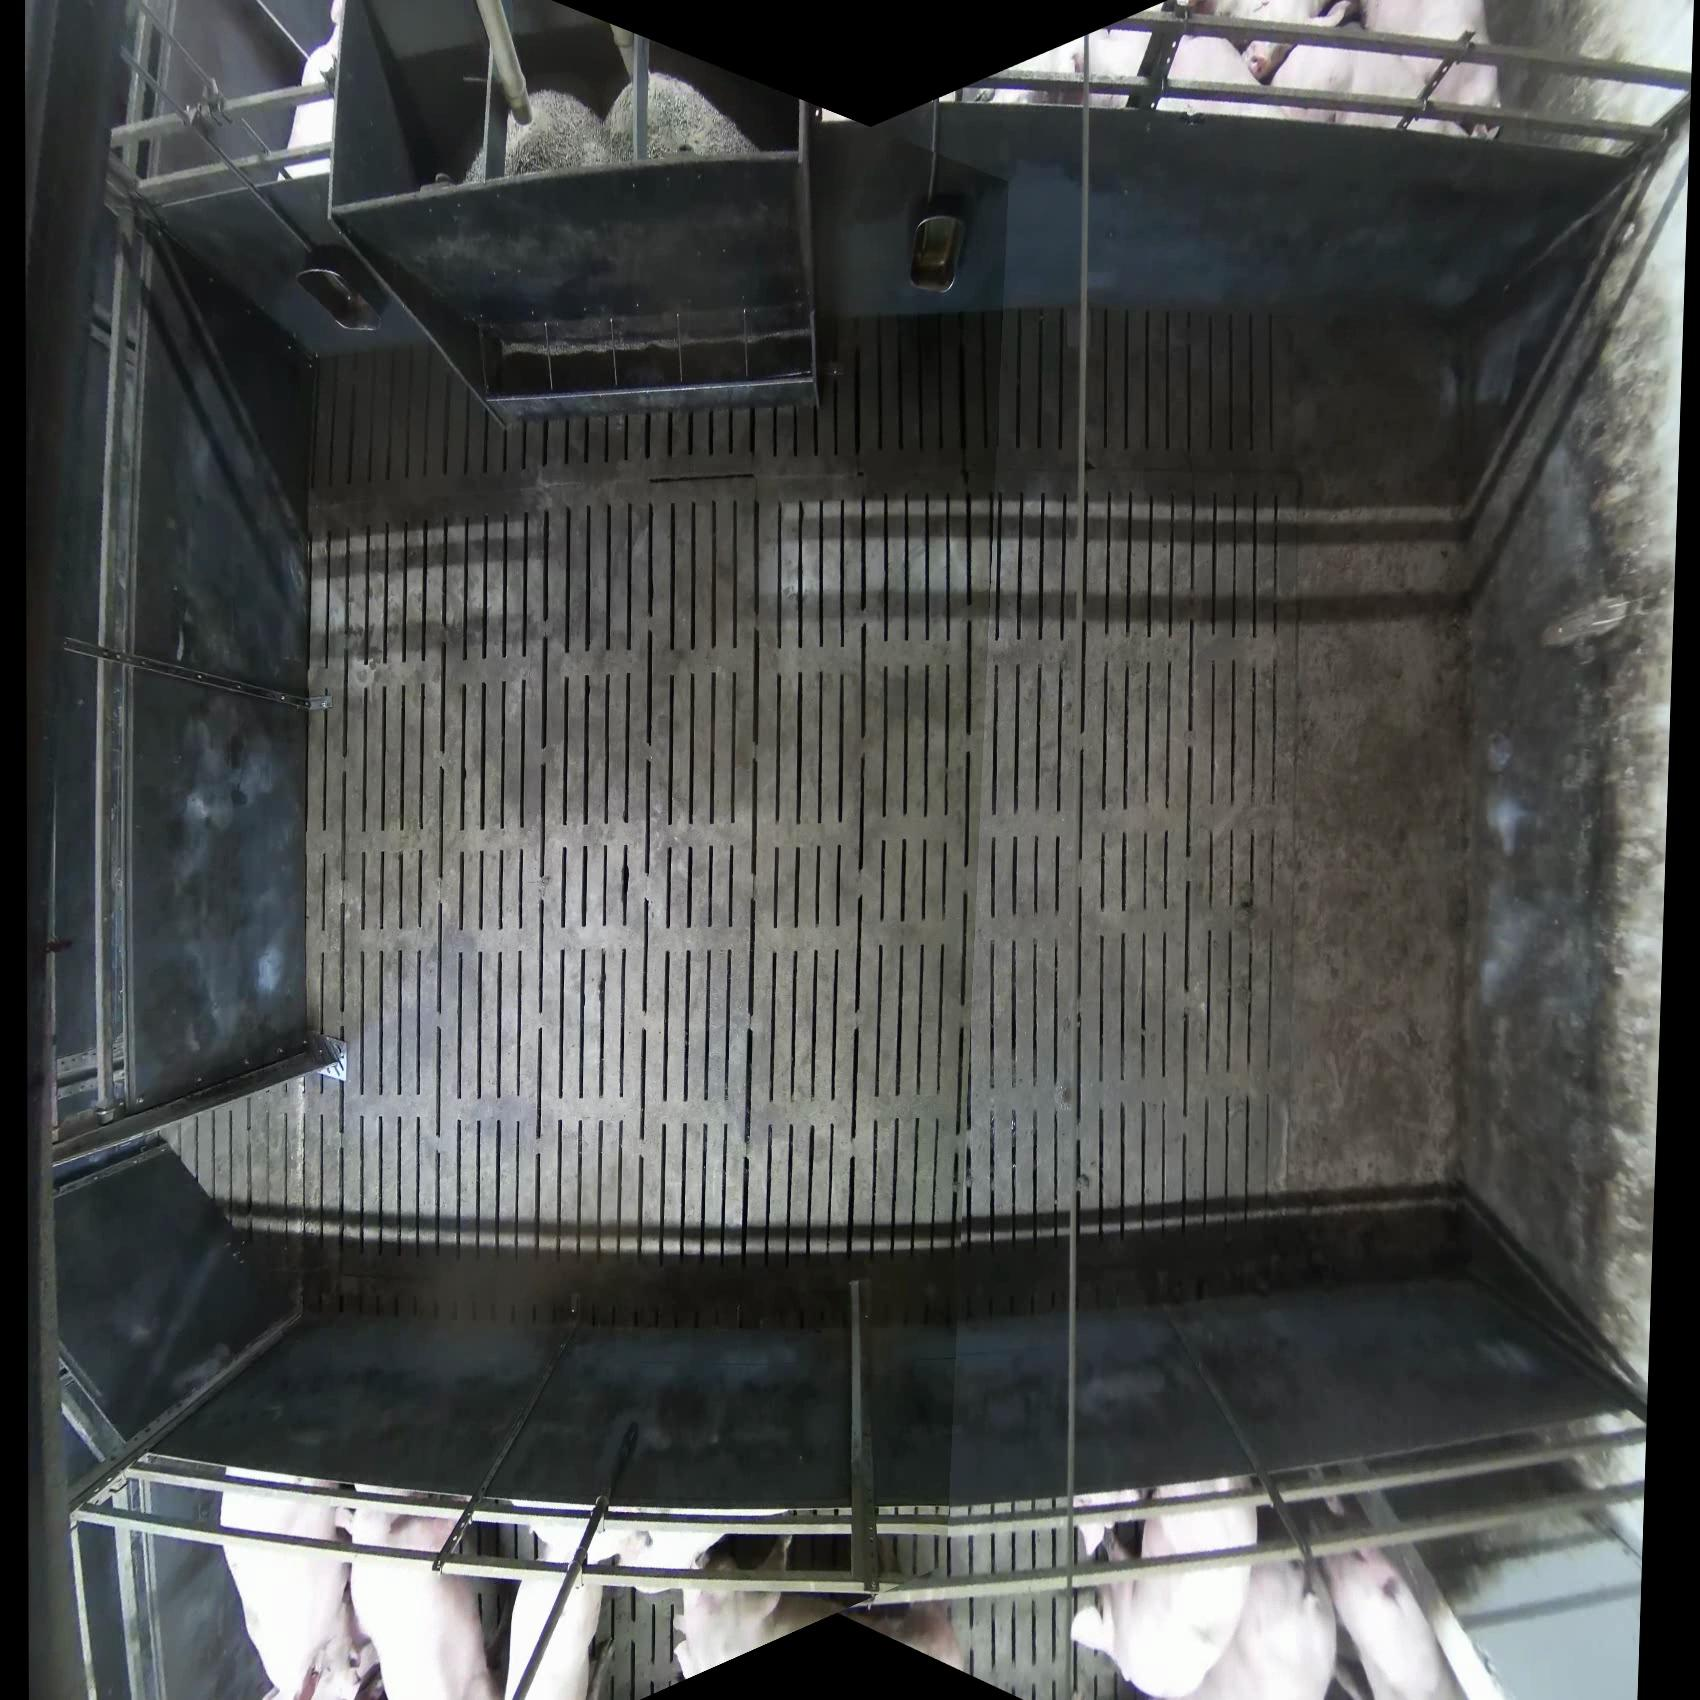pig: (1045, 1382, 1283, 1700), (311, 1414, 497, 1700), (185, 1415, 367, 1700), (1298, 1480, 1491, 1700), (500, 1479, 609, 1700)
